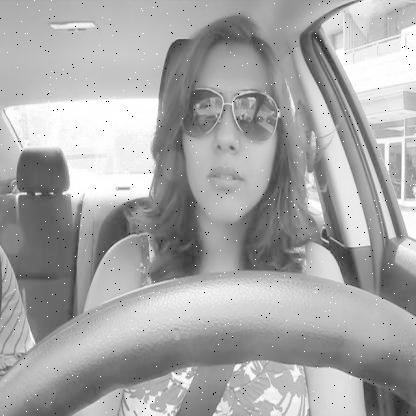seatbelt: (151, 16, 334, 416)
